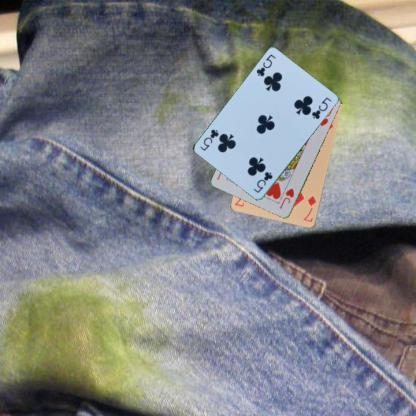5c: (251, 169, 274, 194), (254, 52, 276, 78)
7d: (301, 194, 317, 223)
Jh: (277, 186, 296, 210)
